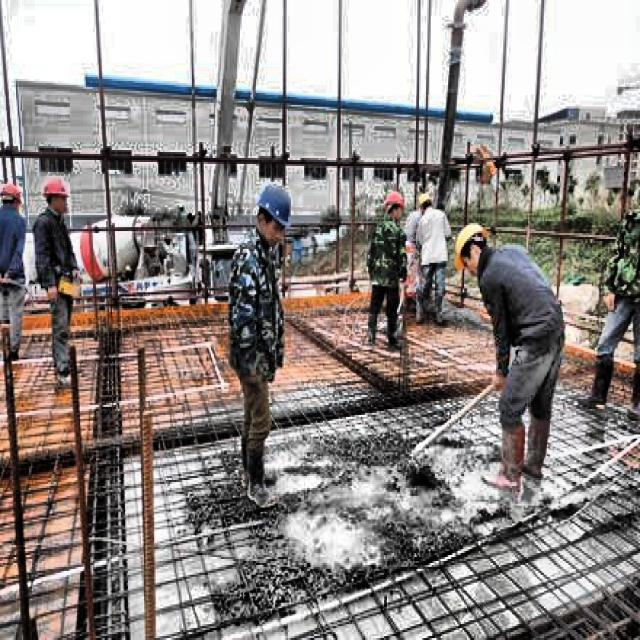helmet: (252, 178, 292, 251), (454, 221, 493, 273), (42, 174, 71, 217), (1, 180, 24, 213), (384, 188, 406, 221), (416, 188, 436, 217)
